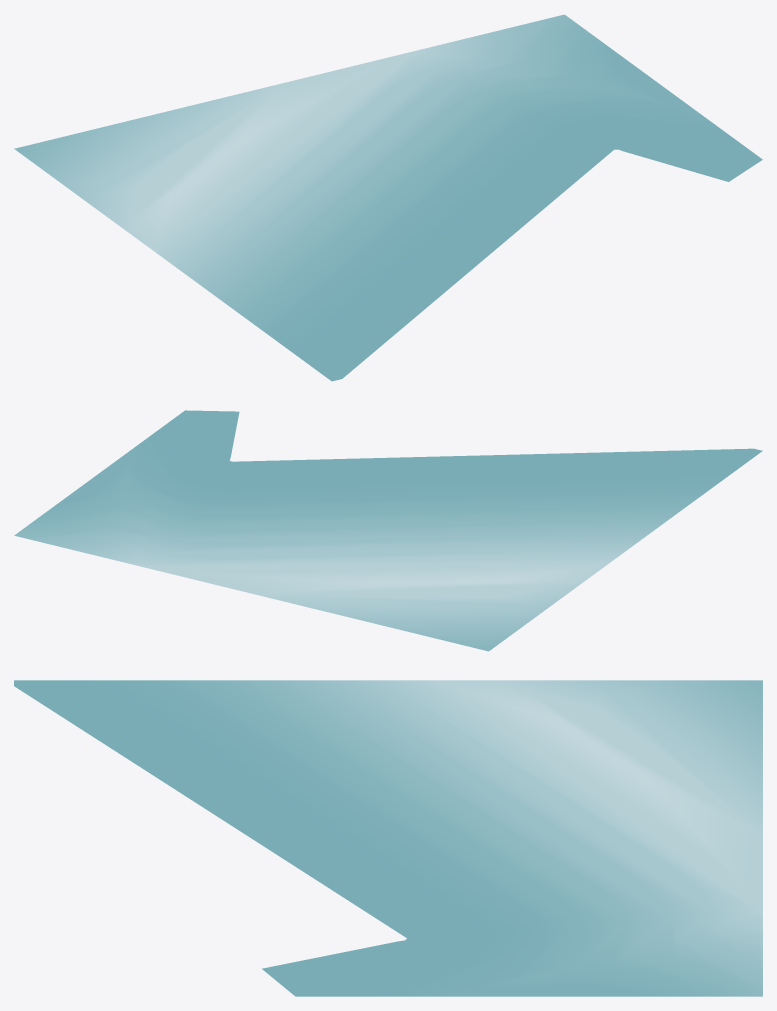
The picture shows the model from 3 angles, top to bottom: view 1: azimuth 30°, elevation 25°; view 2: azimuth 150°, elevation 25°; view 3: azimuth 270°, elevation 25°; orthographic projection. The views are drawn at different scales.
Visible parts, largest first — view 1: city; view 2: city; view 3: city.
Boxes of the visible parts, x1=… form: city: x1=14, y1=14, x2=762, y2=381; city: x1=14, y1=410, x2=762, y2=651; city: x1=14, y1=680, x2=762, y2=996.
Size of the model in its own units: 500 by 0 by 500.
